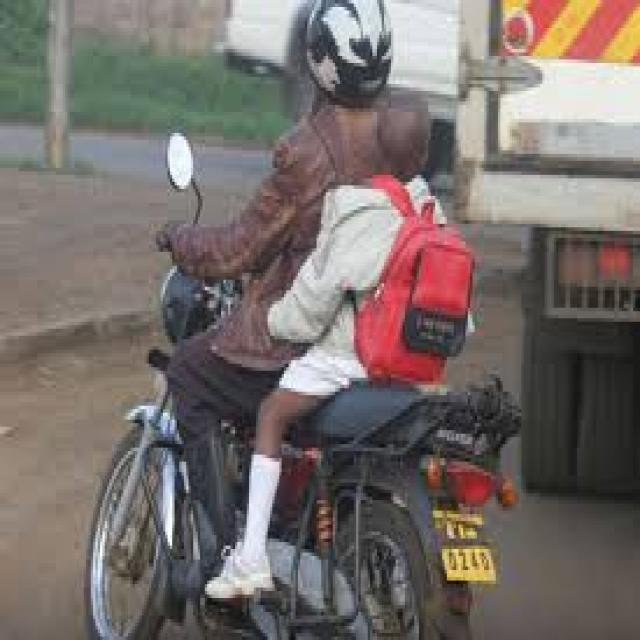bodaboda: (70, 98, 550, 640)
